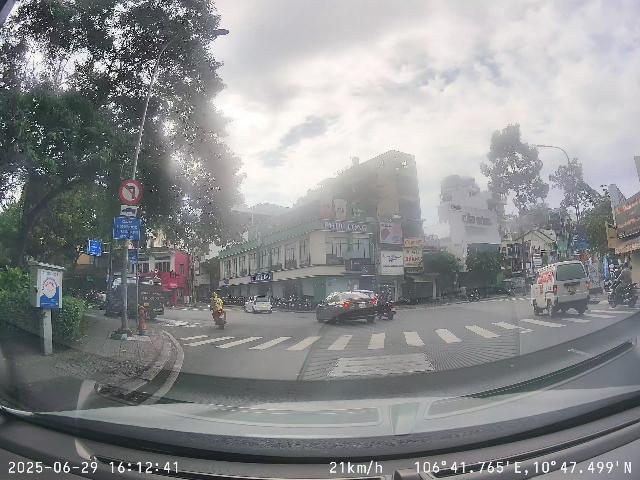123a-cam-re-trai: (119, 179, 142, 204)
